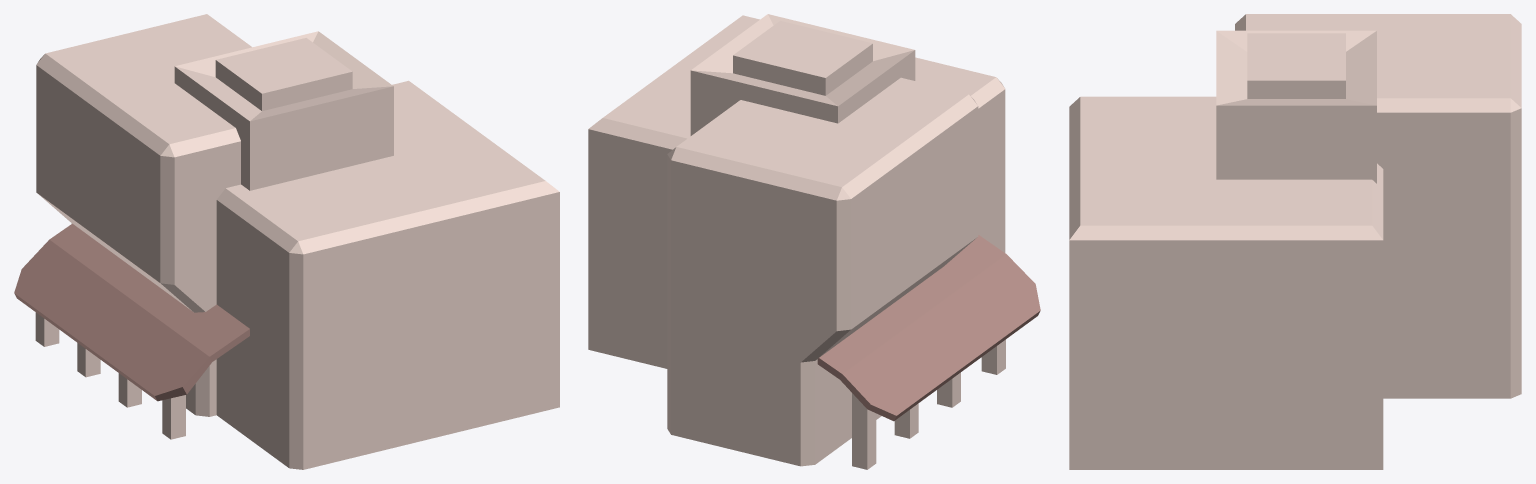
Rendered from Edificio017.FBX.
3 views of the same model, side by side, from view 1: azimuth 30°, elevation 25°; view 2: azimuth 150°, elevation 25°; view 3: azimuth 270°, elevation 25° (orthographic). The views are drawn at different scales.
Parts seen in each view (by area): view 1: Edificio014; view 2: Edificio014; view 3: Edificio014.
Part boxes in pixels (x1,y1,x2,y2): Edificio014: [14, 14, 559, 469]; Edificio014: [588, 14, 1040, 469]; Edificio014: [1069, 14, 1521, 469].
Bounding box in the file's own units: 1005 × 837 × 1055.
